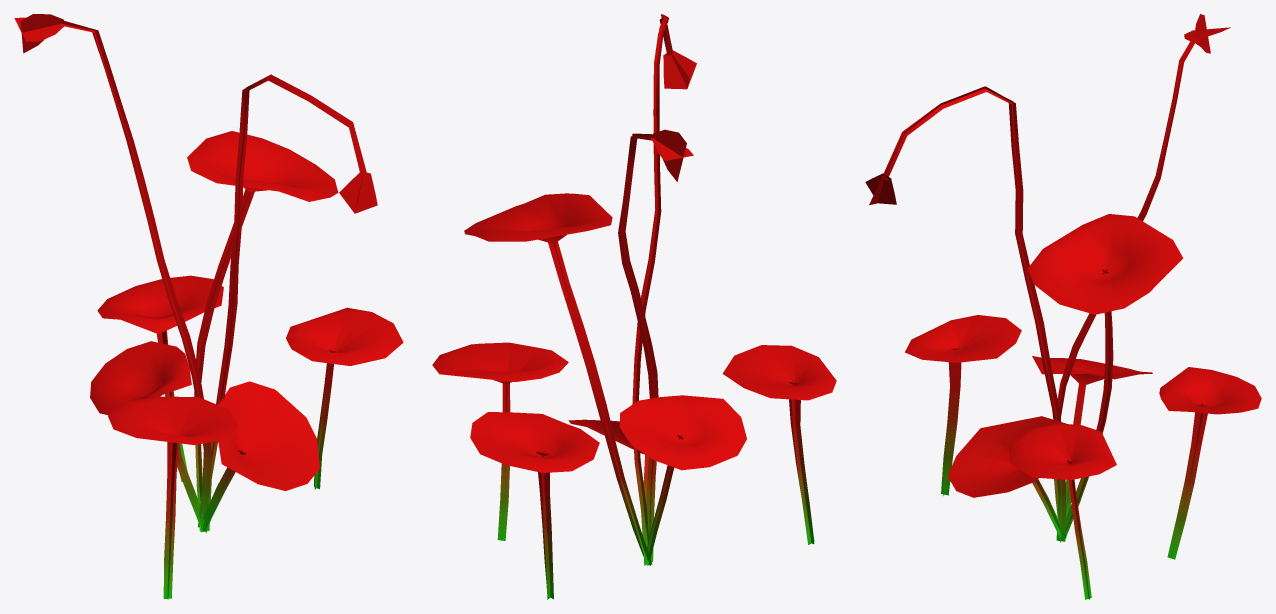
File: Native Violet_LOD2_Var22_ultkcfeja.fbx
3 views of the same model, side by side, from view 1: azimuth 30°, elevation 25°; view 2: azimuth 150°, elevation 25°; view 3: azimuth 270°, elevation 25° (orthographic). The views are drawn at different scales.
Visible parts, largest first — view 1: _3ixj_Var22_LOD2; view 2: _3ixj_Var22_LOD2; view 3: _3ixj_Var22_LOD2.
Part boxes in pixels (x1,y1,x2,y2): _3ixj_Var22_LOD2: (14, 14, 403, 599); _3ixj_Var22_LOD2: (432, 14, 836, 599); _3ixj_Var22_LOD2: (865, 14, 1261, 599).
Size of the model in its own units: 12.45 by 17.8 by 13.34.
